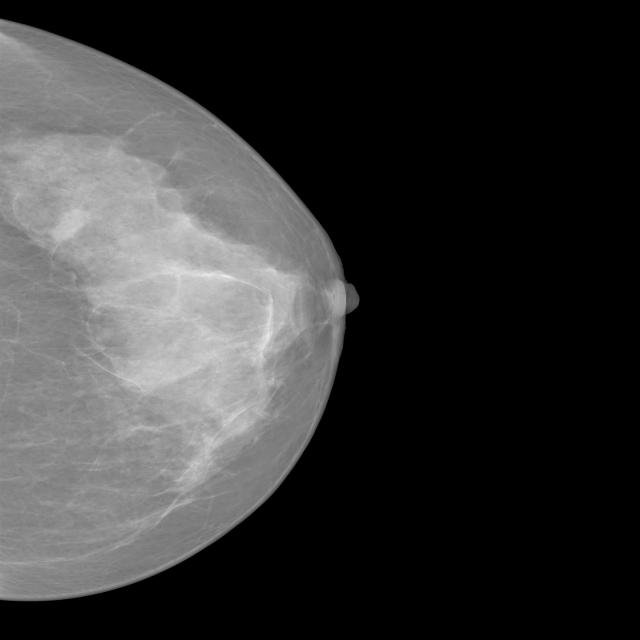Mass_1: (30, 194, 108, 258)
